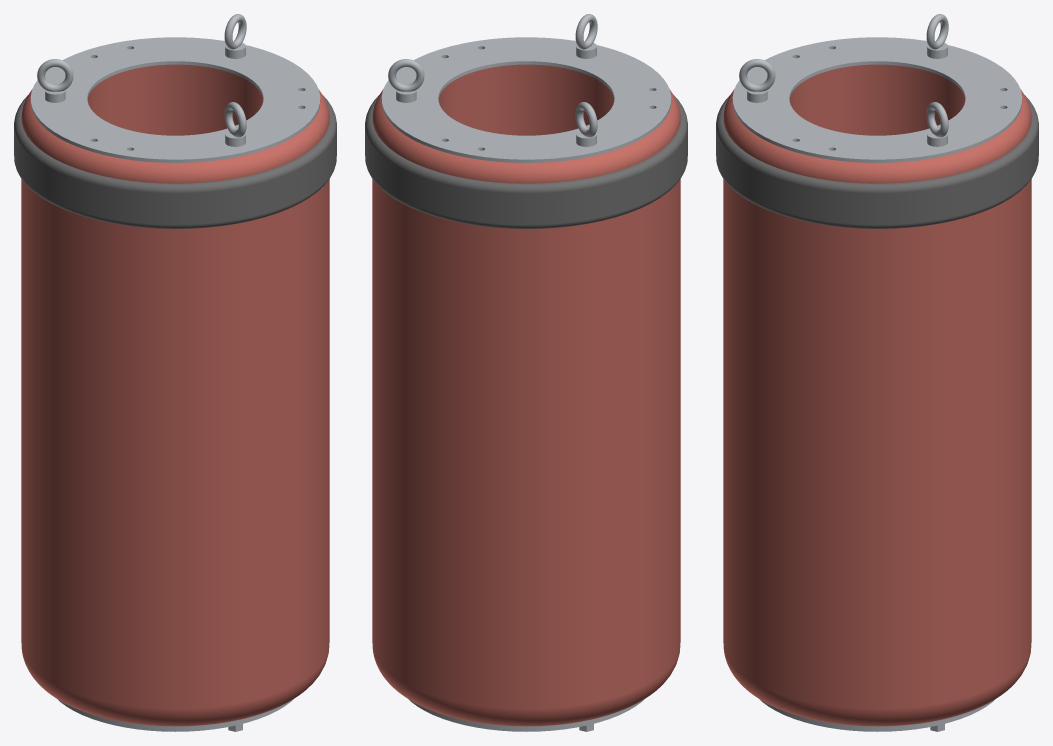
The model's file is step_01.glb.
The picture shows the model from 3 angles, left to right: view 1: azimuth 30°, elevation 25°; view 2: azimuth 150°, elevation 25°; view 3: azimuth 270°, elevation 25°; orthographic projection.
Visible parts, largest first — view 1: part__float hull, part__deck plate, part__fender ring, part__keel plate, part__lifting eye nut 2, part__lifting eye nut 3, part__lifting eye nut 1; view 2: part__float hull, part__deck plate, part__fender ring, part__keel plate, part__lifting eye nut 1, part__lifting eye nut 2, part__lifting eye nut 3; view 3: part__float hull, part__deck plate, part__fender ring, part__keel plate, part__lifting eye nut 3, part__lifting eye nut 1, part__lifting eye nut 2.
Boxes of the visible parts, x1,y1,x2,y2 form: part__float hull: (21,64,329,726); part__deck plate: (30,37,320,162); part__fender ring: (14,95,336,228); part__keel plate: (58,699,292,731); part__lifting eye nut 2: (37,59,73,102); part__lifting eye nut 3: (224,102,246,146); part__lifting eye nut 1: (224,14,246,58); part__float hull: (372,64,680,726); part__deck plate: (381,37,671,162); part__fender ring: (365,95,687,228); part__keel plate: (409,699,643,731); part__lifting eye nut 1: (388,59,424,102); part__lifting eye nut 2: (575,102,597,146); part__lifting eye nut 3: (575,14,597,58); part__float hull: (723,64,1031,726); part__deck plate: (732,37,1022,162); part__fender ring: (716,95,1038,228); part__keel plate: (759,699,994,731); part__lifting eye nut 3: (739,59,775,102); part__lifting eye nut 1: (926,102,948,146); part__lifting eye nut 2: (926,14,948,58).
Size of the model in its own units: 524 by 1121 by 524.
